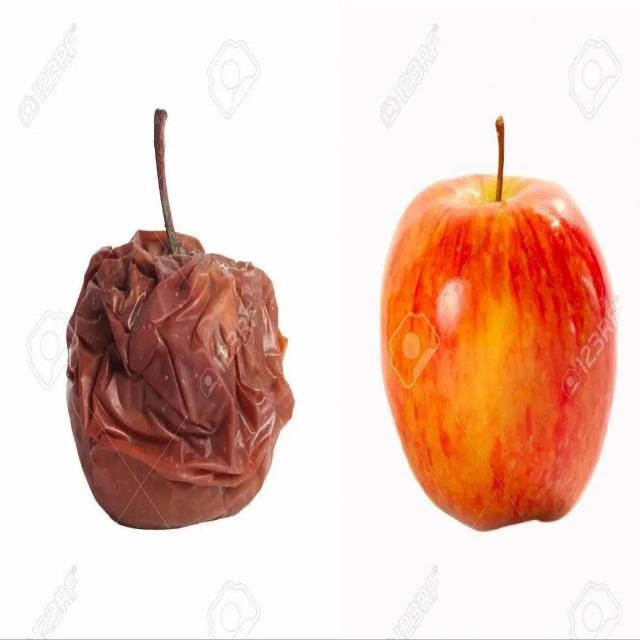fresh_apple: (382, 177, 616, 533)
rotten_apple: (66, 232, 292, 532)
